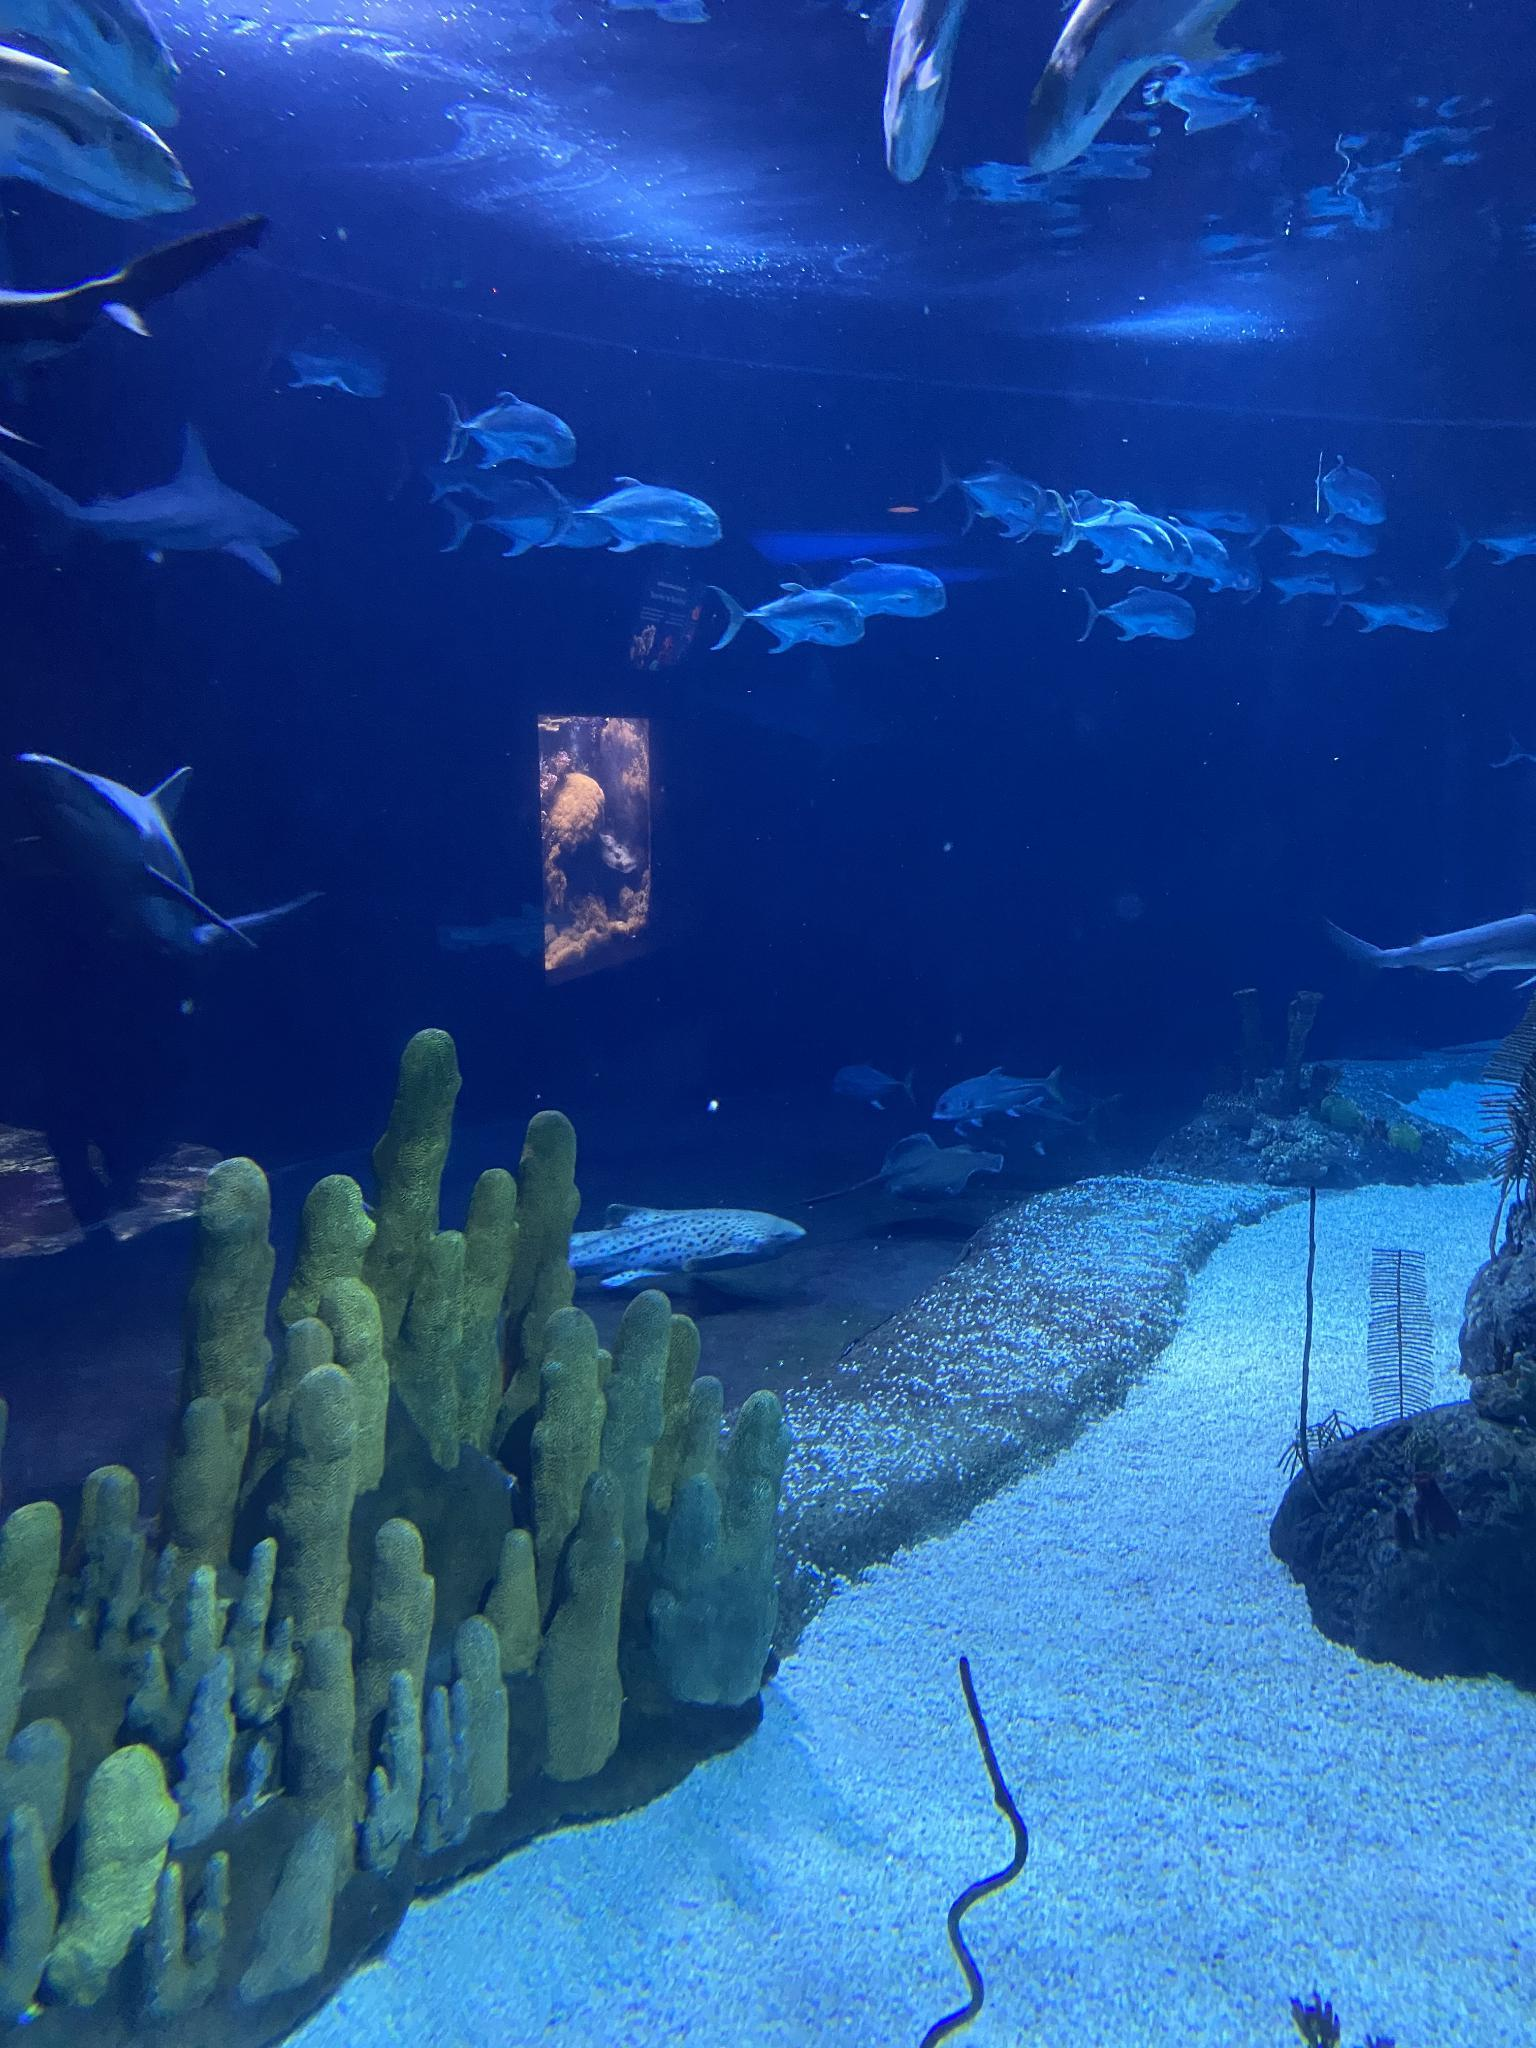fish: (1012, 0, 1236, 166), (0, 48, 198, 232), (0, 0, 245, 114), (560, 1203, 812, 1297), (878, 0, 981, 198), (278, 310, 405, 411), (728, 589, 870, 671), (445, 398, 592, 474), (807, 552, 954, 619), (579, 489, 723, 553), (436, 489, 558, 556), (937, 1074, 1079, 1130), (1286, 453, 1397, 519), (950, 452, 1041, 532), (1097, 511, 1194, 581), (1354, 576, 1454, 640), (1078, 506, 1175, 569), (1099, 592, 1200, 648), (1154, 527, 1242, 585), (820, 1064, 916, 1118), (1442, 522, 1534, 572), (1283, 519, 1384, 564), (1268, 563, 1354, 611)
shark: (29, 753, 261, 1000), (56, 453, 308, 587), (0, 234, 229, 376), (1347, 913, 1536, 1005)
stingray: (886, 1142, 1008, 1205)
